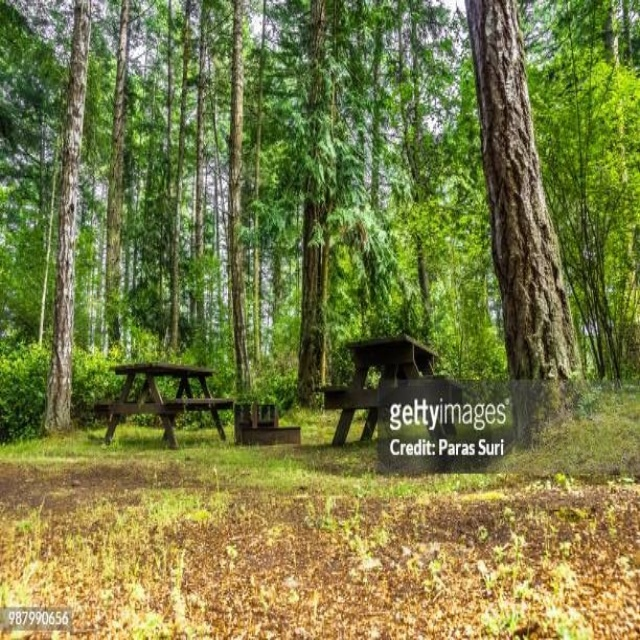obstacle: (94, 362, 233, 447)
